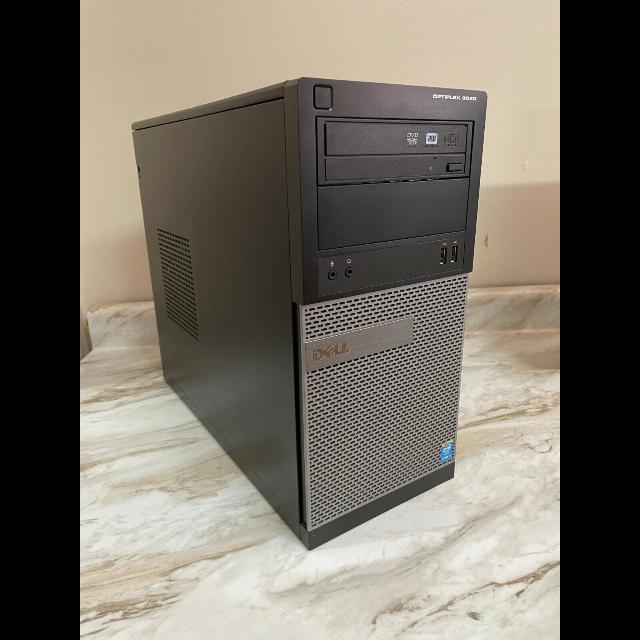Desktop-PC: (125, 70, 487, 548)
